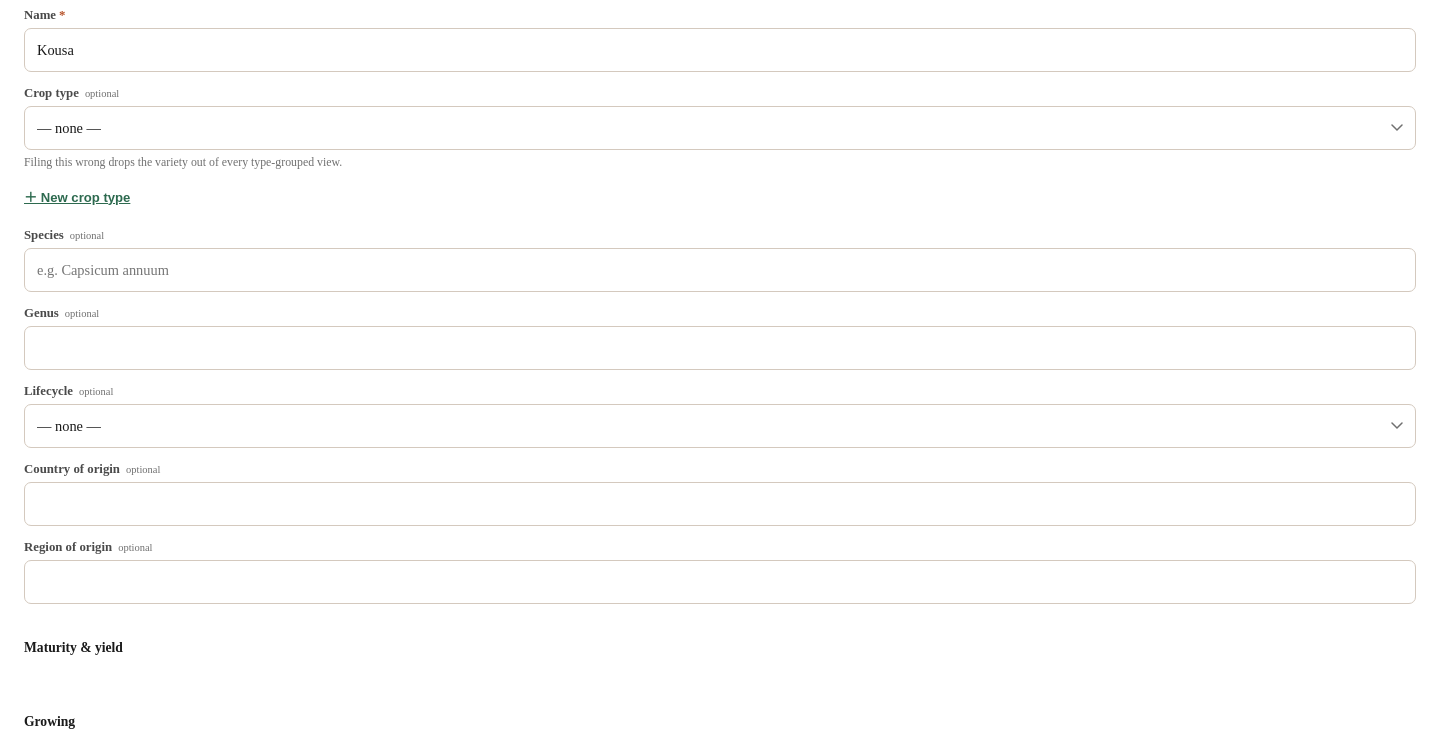
Test: VarietyEditor — a retired crop type typed into the inline form › shows the one plain line, selects nothing, and saves nothing
Click the button "＋ New crop type" at (77, 192), box [24,170,130,214]
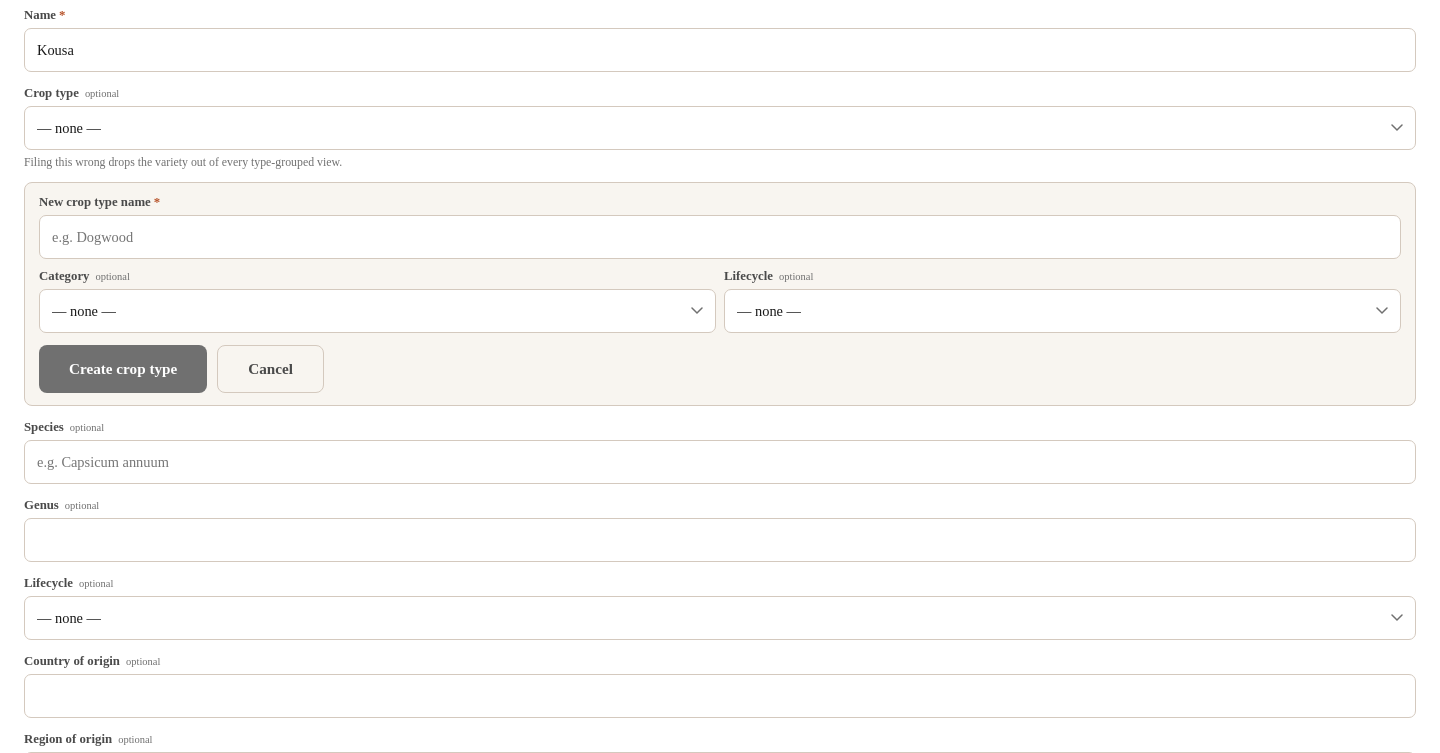
Type "Tatsoi" into the field with placeholder "e.g. Dogwood" at (720, 237), box [39,215,1401,259]
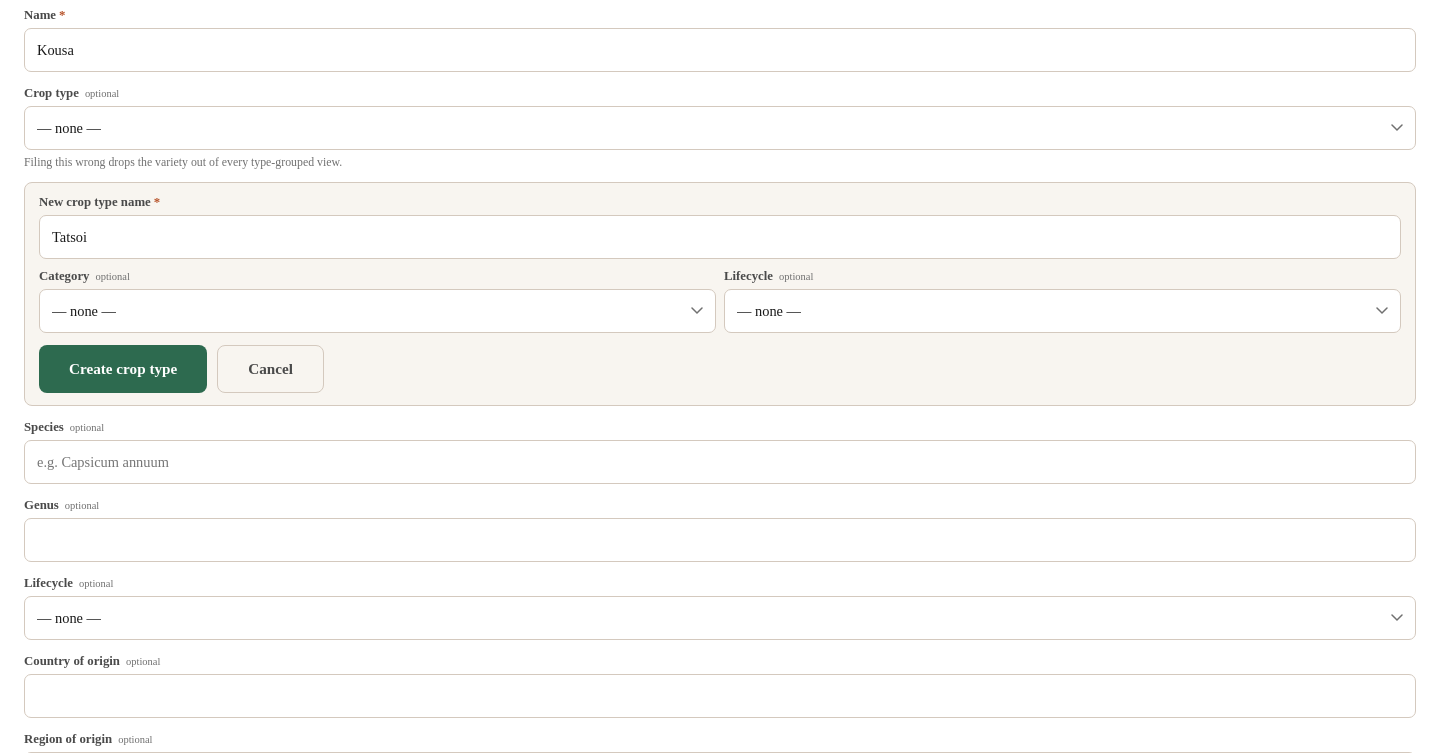
Click the button "Create crop type" at (123, 369), box [39,345,207,393]
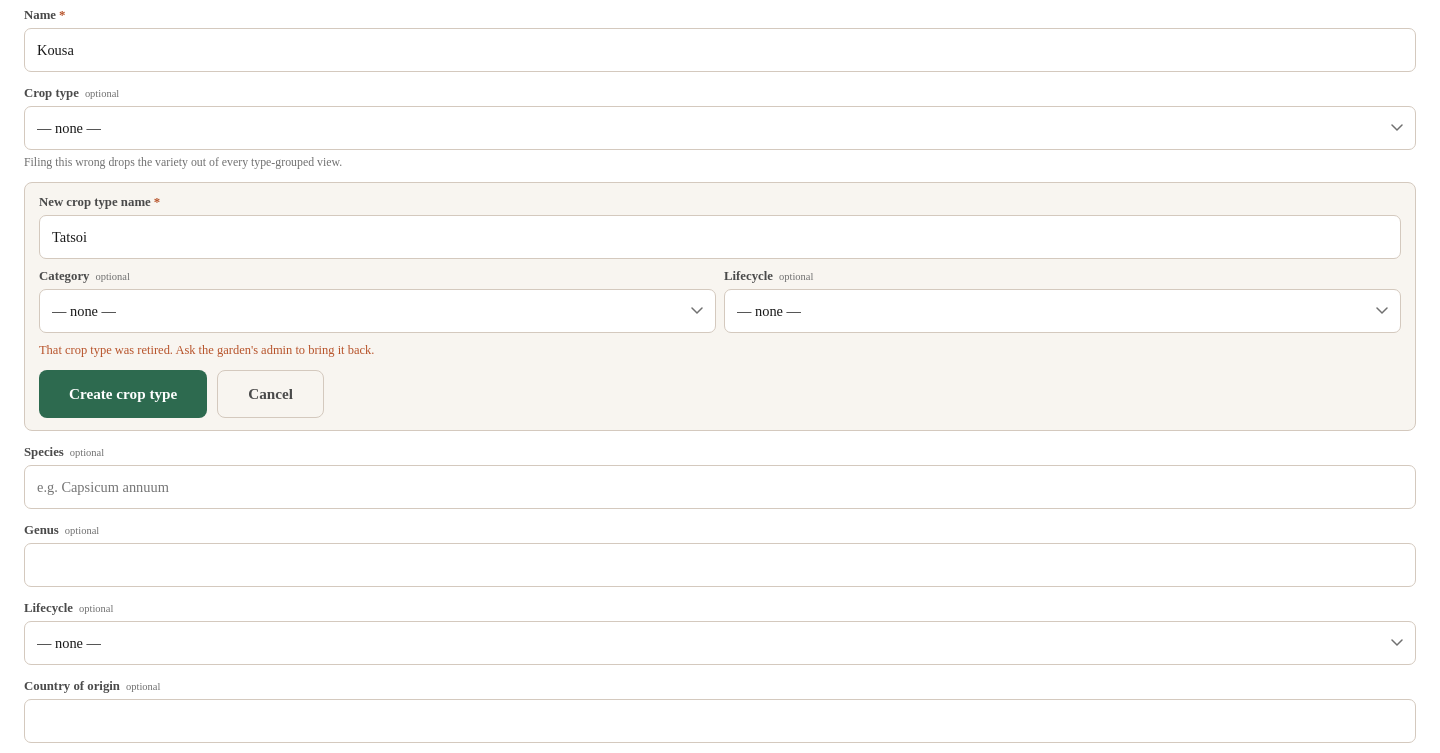
Expected: the dropdown labelled "Crop type" shows "— none —", [24,106,1416,150]
Expected: the text "That crop type was retired. Ask the garden's admin to bring it back." is shown, [39,343,374,357]
